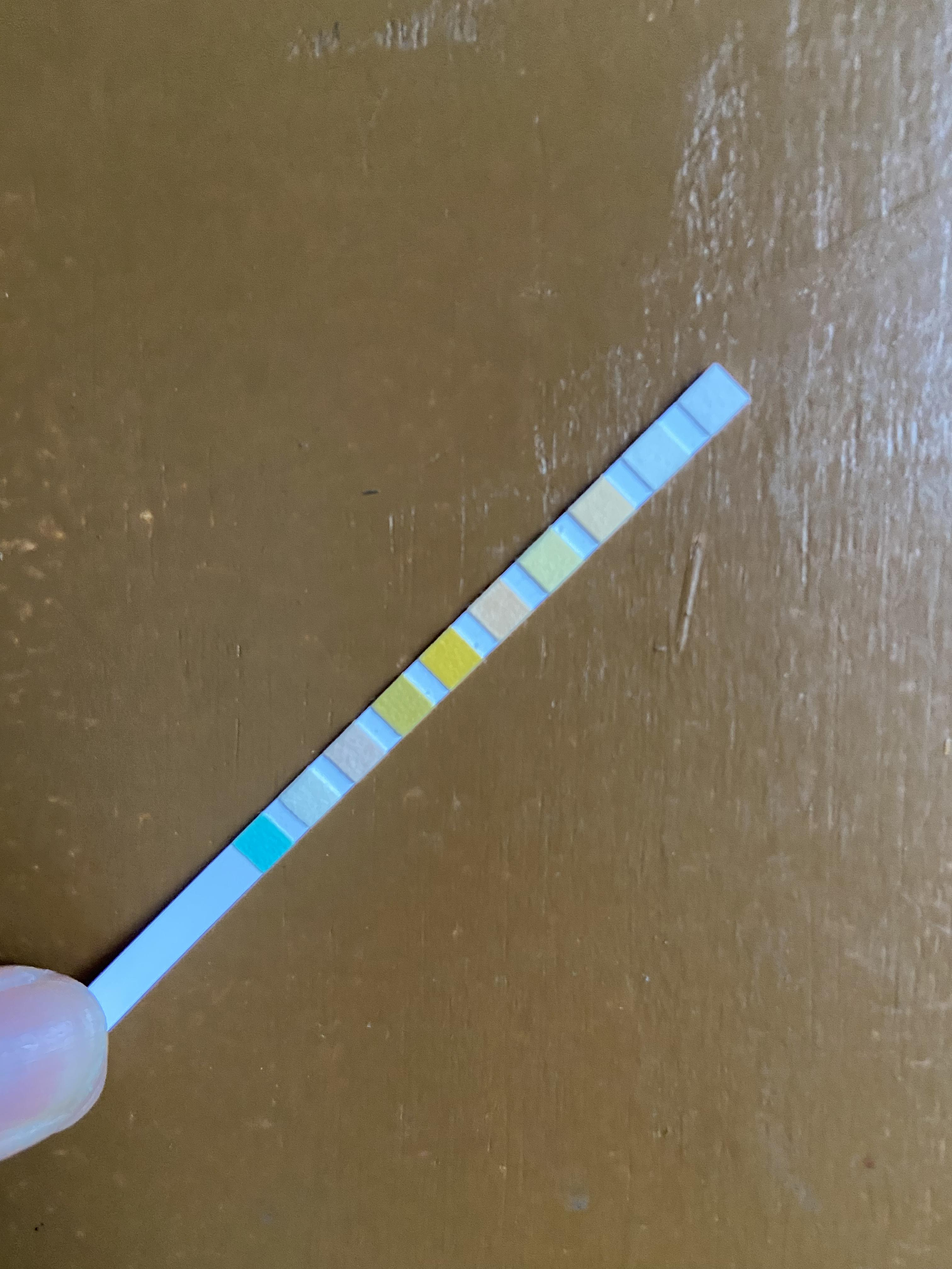Bilirubin: (294, 784, 326, 814)
Blood: (434, 641, 467, 676)
Glucose: (246, 827, 278, 859)
Ketone: (338, 737, 371, 767)
Leukocytes: (698, 381, 729, 419)
Nitrite: (640, 436, 673, 473)
Protein: (534, 542, 568, 579)
SpGravity: (387, 689, 418, 722)
Urobilinogen: (586, 491, 619, 527)
pH: (484, 595, 516, 625)
strip: (94, 365, 753, 1015)
